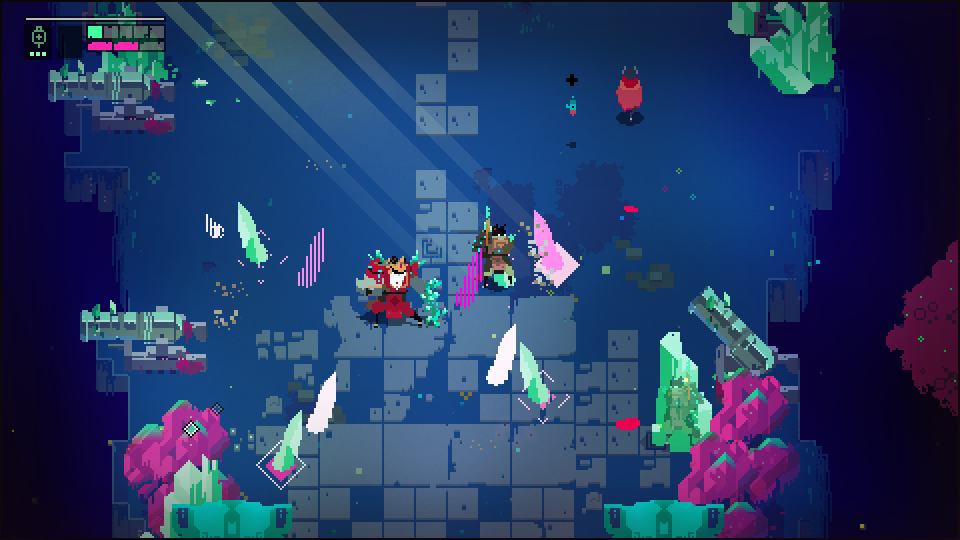hanged_crys: (274, 406, 308, 473), (483, 324, 516, 390), (235, 200, 269, 261), (308, 368, 341, 430), (294, 227, 324, 293), (516, 345, 549, 402), (529, 211, 559, 271)
hanged_man: (363, 251, 447, 329)
player: (613, 64, 642, 124)
